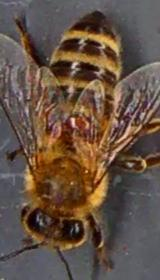varroa_mite: (58, 108, 95, 134)
